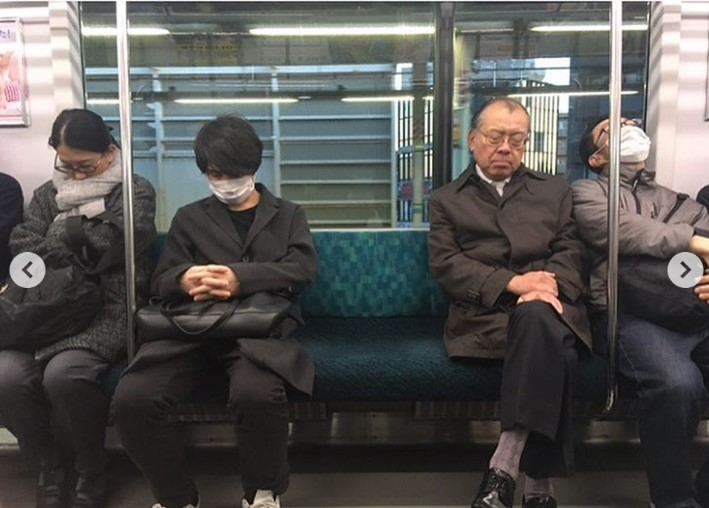face_no_mask: (464, 98, 535, 184)
face_with_mask: (190, 114, 265, 208), (582, 116, 652, 167)
